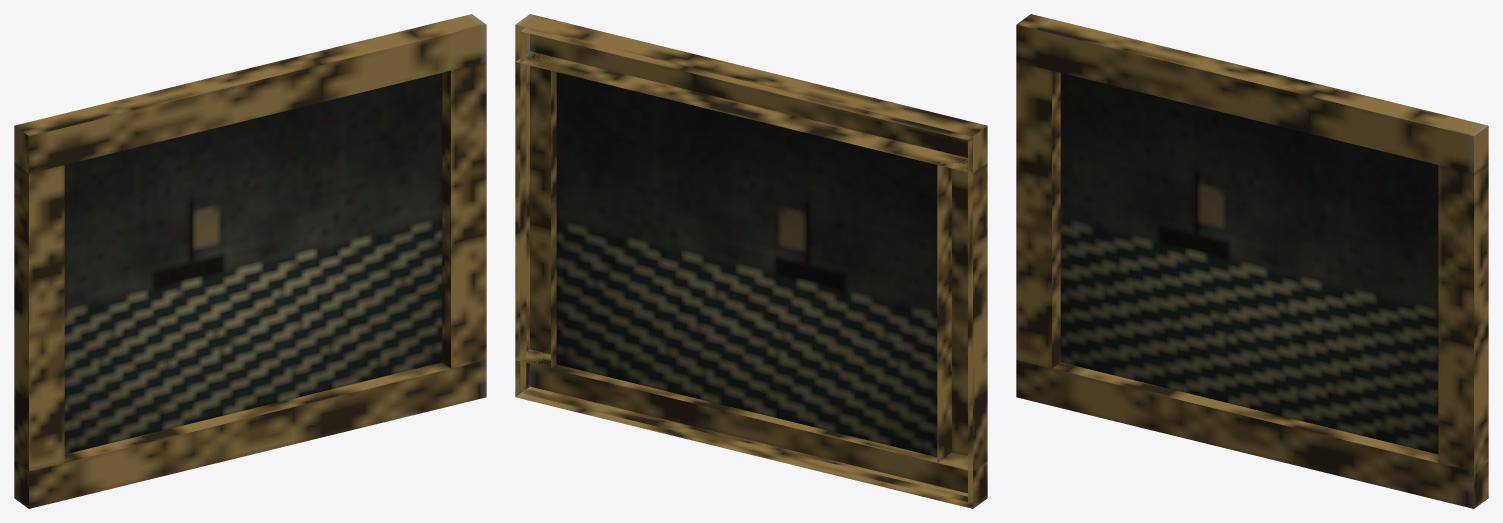
Rendered from Atmos_Painting_Sea.fbx.
3 renders of one model, left to right at view 1: azimuth 30°, elevation 25°; view 2: azimuth 150°, elevation 25°; view 3: azimuth 330°, elevation 25°, orthographic.
Visible parts, largest first — view 1: Atmos_Painting_Sea; view 2: Atmos_Painting_Sea; view 3: Atmos_Painting_Sea.
Part boxes in pixels (left/top/right/bottom): Atmos_Painting_Sea: left=14, top=14, right=486, bottom=508; Atmos_Painting_Sea: left=515, top=14, right=987, bottom=508; Atmos_Painting_Sea: left=1016, top=14, right=1488, bottom=508.
Bounding box in the file's own units: 90 × 70 × 5.
Materials: 1 (1 with a texture image).
